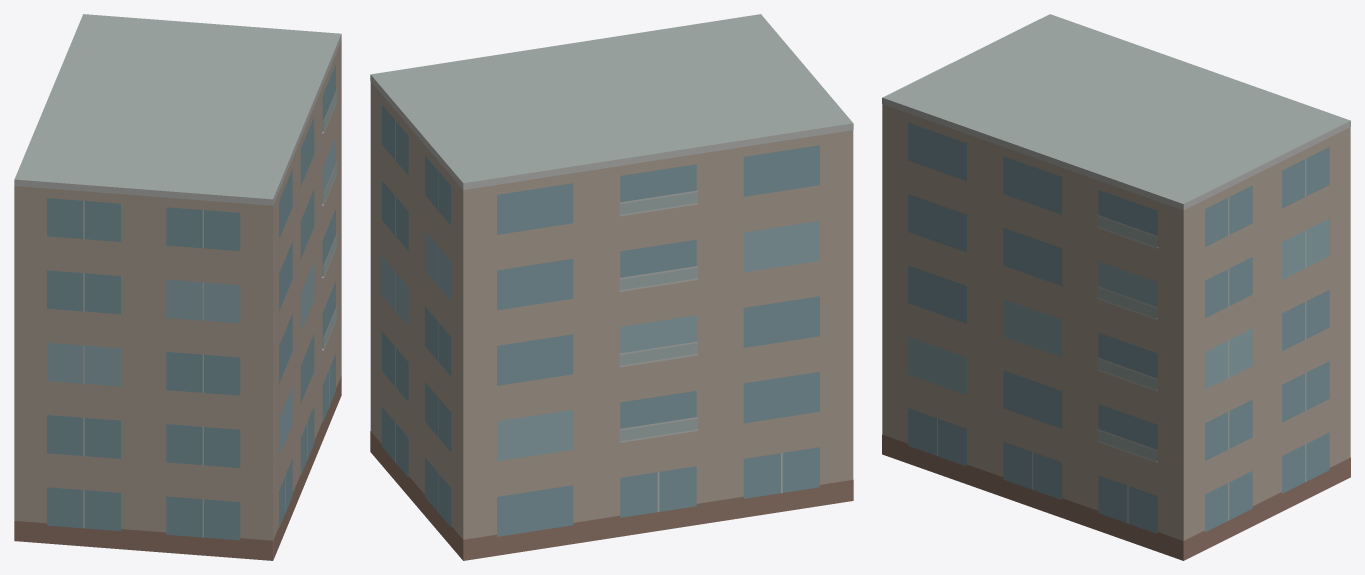
Rendered from survey-upis-32887752.glb.
3 views of the same model, side by side, from view 1: azimuth 30°, elevation 25°; view 2: azimuth 150°, elevation 25°; view 3: azimuth 270°, elevation 25° (orthographic). The views are drawn at different scales.
Parts seen in each view (by area): view 1: survey-upis-32887752.tmp; view 2: survey-upis-32887752.tmp; view 3: survey-upis-32887752.tmp.
Part boxes in pixels (box(x1,y1,x2,y2)): survey-upis-32887752.tmp: box(14, 14, 341, 560); survey-upis-32887752.tmp: box(370, 14, 853, 560); survey-upis-32887752.tmp: box(882, 14, 1350, 560).
Bounding box in the file's own units: 15.64 × 13.68 × 16.29.
